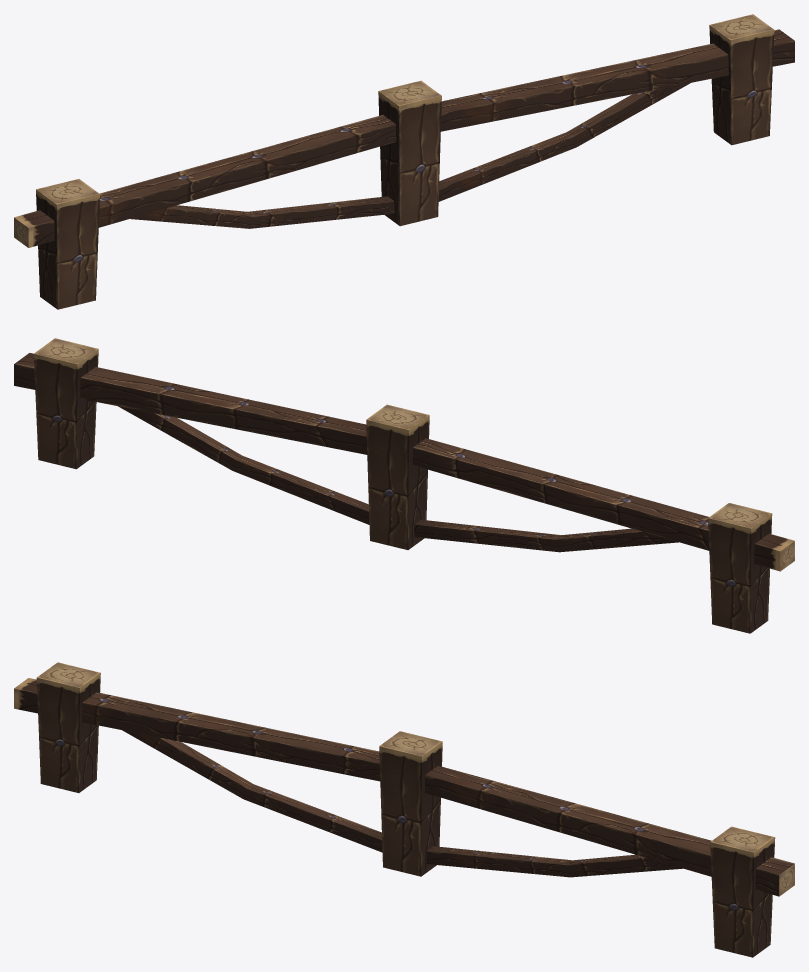
Rendered from fence_01.fbx.
3 views of the same model, one above another, from view 1: azimuth 30°, elevation 25°; view 2: azimuth 150°, elevation 25°; view 3: azimuth 330°, elevation 25° (orthographic).
Parts seen in each view (by area): view 1: fence_01; view 2: fence_01; view 3: fence_01.
Part boxes in pixels (box(x1,y1,x2,y2)): fence_01: box(14, 14, 794, 309); fence_01: box(14, 338, 794, 633); fence_01: box(14, 662, 794, 957).
Size of the model in its own units: 9.72 by 1.48 by 0.4662.
